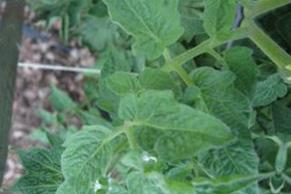Tomato leaf mosaic virus: (108, 79, 248, 176), (47, 0, 197, 69), (56, 112, 124, 189), (185, 59, 240, 102), (195, 9, 244, 50), (122, 168, 177, 194), (107, 68, 146, 97)
